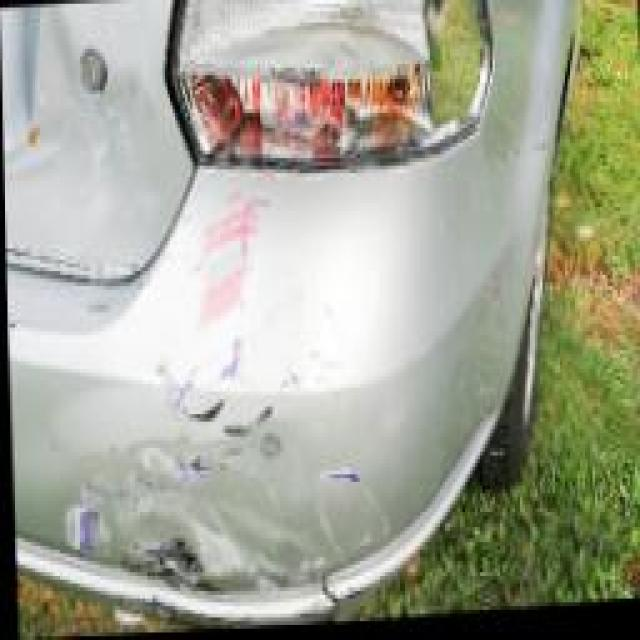Bumper: (50, 173, 434, 638)
Dickey: (2, 0, 150, 263)
Light: (178, 0, 481, 169)
